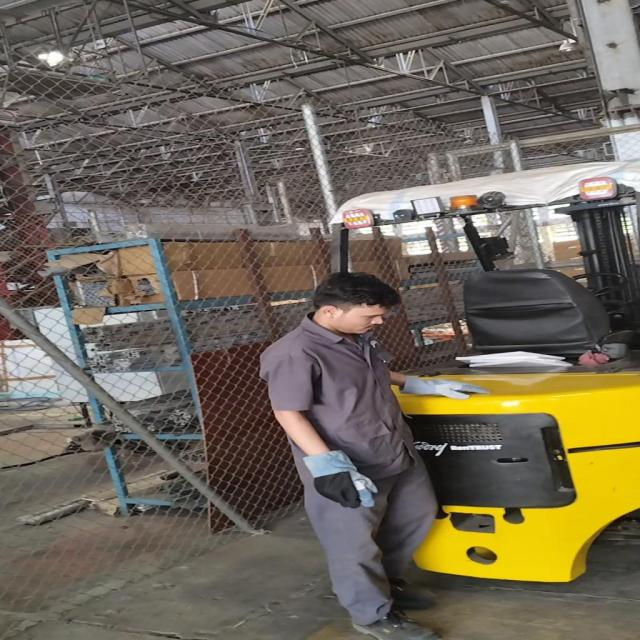Gloves-Detection: (302, 448, 374, 516), (400, 367, 482, 405)
